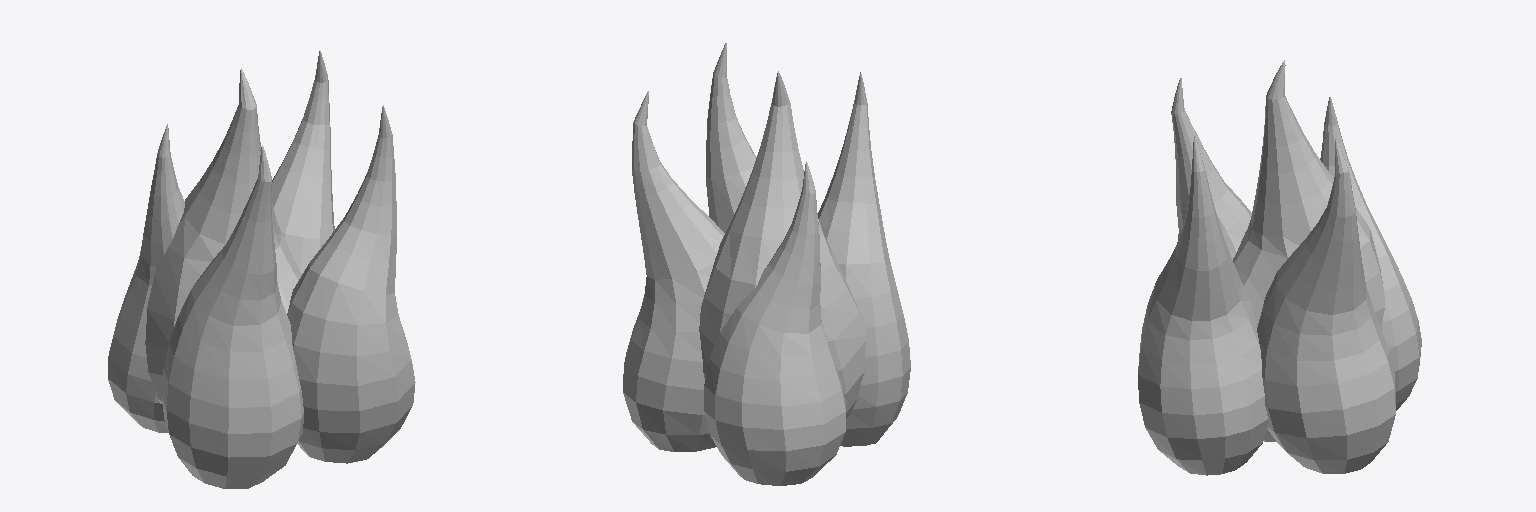
File: fire_000027.obj
3 renders of one model, left to right at view 1: azimuth 30°, elevation 25°; view 2: azimuth 150°, elevation 25°; view 3: azimuth 270°, elevation 25°, orthographic.
Parts seen in each view (by area): view 1: flame_NurbsPath.015; view 2: flame_NurbsPath.015; view 3: flame_NurbsPath.015.
Part boxes in pixels (x1,y1,x2,y2): flame_NurbsPath.015: (108, 51, 415, 488); flame_NurbsPath.015: (623, 43, 910, 485); flame_NurbsPath.015: (1138, 60, 1421, 475).
Bounding box in the file's own units: 0.7415 × 1.2 × 0.8129.